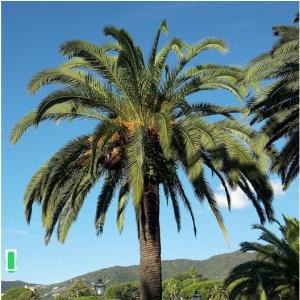palm tree: (8, 18, 276, 299), (241, 10, 300, 191)
